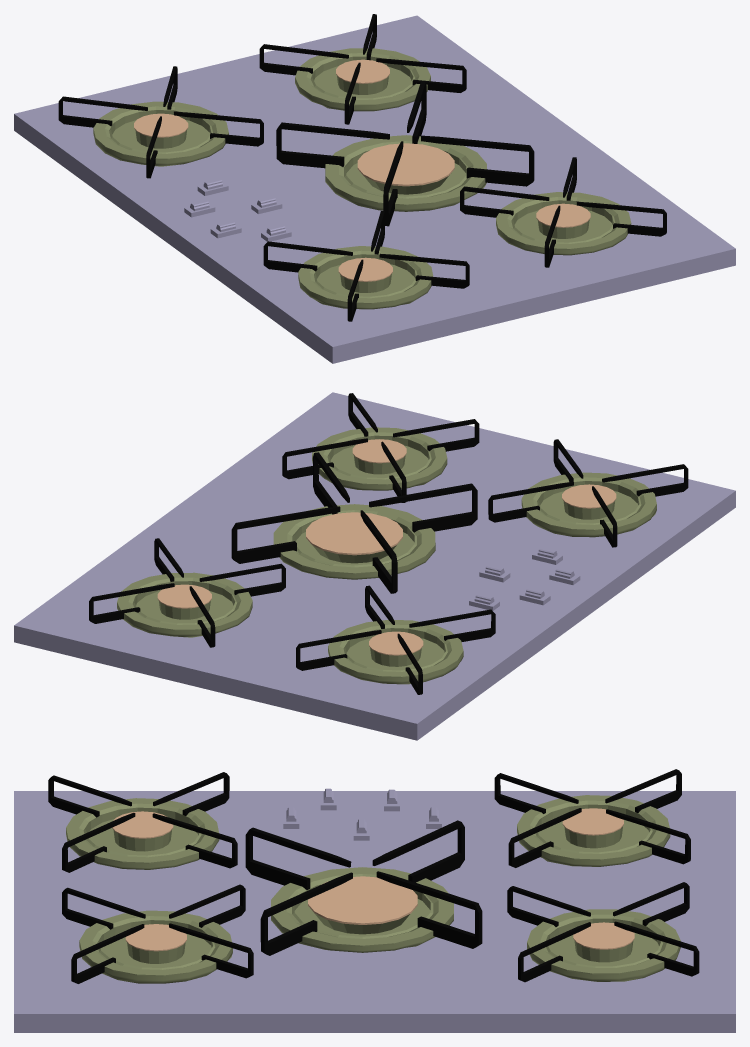
Rendered from gas.fbx.
3 views of the same model, one above another, from view 1: azimuth 30°, elevation 25°; view 2: azimuth 150°, elevation 25°; view 3: azimuth 270°, elevation 25° (orthographic). The views are drawn at different scales.
Parts seen in each view (by area): view 1: Box001, Box011, Cylinder009, Cylinder007, Cylinder004, Cylinder005, Cylinder006, Box012, Cylinder014, Cylinder010, Cylinder012, Cylinder013 (+1 smaller); view 2: Box001, Box011, Cylinder009, Cylinder004, Cylinder007, Box012, Cylinder006, Cylinder005, Cylinder014, Cylinder012, Cylinder011, Cylinder010 (+1 smaller); view 3: Box001, Box011, Box012, Cylinder009, Cylinder005, Cylinder006, Cylinder007, Cylinder004, Cylinder014, Cylinder010, Cylinder013, Cylinder011 (+1 smaller).
Boxes of the visible parts, left/top/right/bottom form: Box001: left=14, top=15, right=735, bottom=363; Box011: left=58, top=14, right=666, bottom=321; Cylinder009: left=325, top=135, right=486, bottom=211; Cylinder007: left=93, top=101, right=228, bottom=166; Cylinder004: left=298, top=246, right=433, bottom=309; Cylinder005: left=496, top=192, right=631, bottom=255; Cylinder006: left=295, top=48, right=430, bottom=111; Box012: left=276, top=81, right=534, bottom=226; Cylinder014: left=357, top=143, right=454, bottom=186; Cylinder010: left=336, top=59, right=389, bottom=83; Cylinder012: left=338, top=257, right=392, bottom=281; Cylinder013: left=536, top=203, right=590, bottom=227; Box001: left=14, top=392, right=735, bottom=740; Box011: left=89, top=393, right=688, bottom=694; Cylinder009: left=273, top=504, right=435, bottom=579; Cylinder004: left=521, top=472, right=656, bottom=537; Cylinder007: left=328, top=619, right=463, bottom=684; Box012: left=231, top=452, right=477, bottom=593; Cylinder006: left=117, top=572, right=252, bottom=637; Cylinder005: left=312, top=427, right=447, bottom=490; Cylinder014: left=306, top=512, right=402, bottom=555; Cylinder012: left=562, top=484, right=616, bottom=508; Cylinder011: left=369, top=631, right=423, bottom=655; Cylinder010: left=157, top=584, right=211, bottom=608; Box001: left=14, top=791, right=735, bottom=1032; Box011: left=48, top=769, right=699, bottom=983; Box012: left=245, top=820, right=482, bottom=955; Cylinder009: left=271, top=867, right=453, bottom=952; Cylinder005: left=79, top=910, right=232, bottom=983; Cylinder006: left=527, top=909, right=680, bottom=981; Cylinder007: left=517, top=795, right=670, bottom=866; Cylinder004: left=66, top=798, right=219, bottom=869; Cylinder014: left=308, top=876, right=417, bottom=924; Cylinder010: left=573, top=922, right=634, bottom=949; Cylinder013: left=125, top=924, right=186, bottom=951; Cylinder011: left=562, top=808, right=623, bottom=835.
Size of the model in its own units: 52.17 by 7.55 by 71.41.
